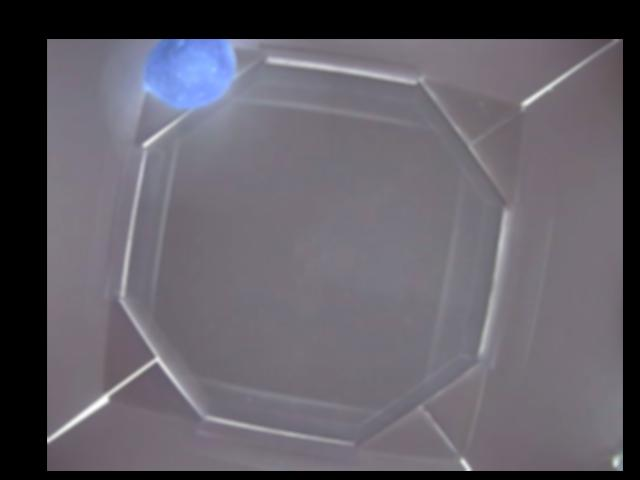Potato: (139, 39, 234, 110)
